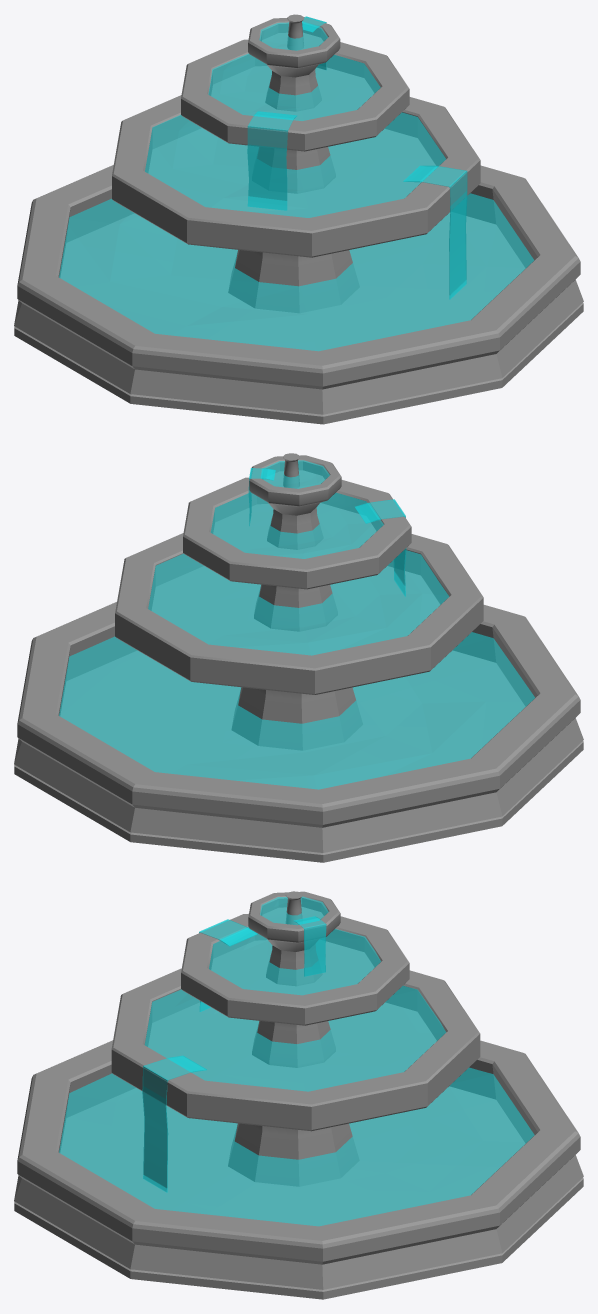
The model's file is Fountain.fbx.
3 renders of one model, top to bottom at view 1: azimuth 30°, elevation 25°; view 2: azimuth 150°, elevation 25°; view 3: azimuth 270°, elevation 25°, orthographic.
Visible parts, largest first — view 1: Fountain; view 2: Fountain; view 3: Fountain.
Part boxes in pixels (x1,y1,x2,y2): Fountain: (14,14,583,424); Fountain: (14,453,583,862); Fountain: (14,891,583,1299).
Size of the model in its own units: 574 by 314 by 573.
